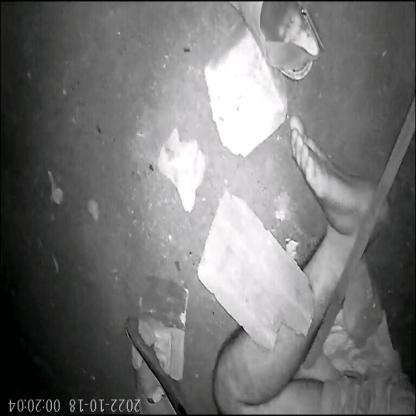leg: (205, 103, 399, 416)
